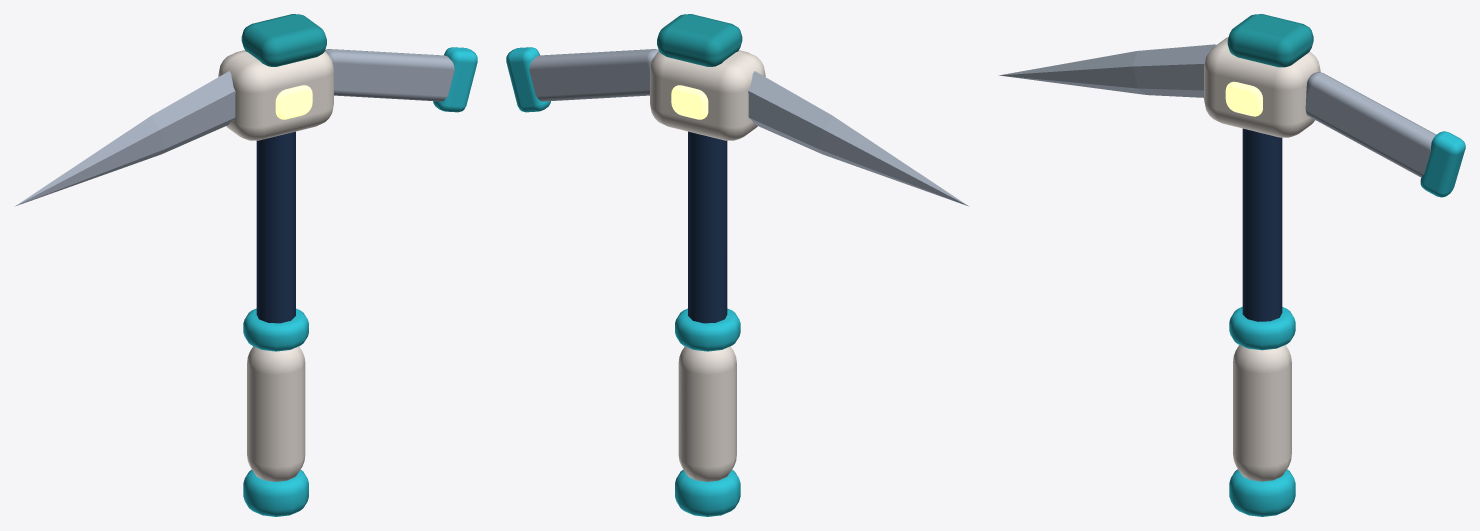
The model's file is pico.glb.
The picture shows the model from 3 angles, left to right: view 1: azimuth 30°, elevation 25°; view 2: azimuth 150°, elevation 25°; view 3: azimuth 330°, elevation 25°; orthographic projection.
Visible parts, largest first — view 1: Mango, Asta, Punta, Cabezal, Malla_cian, Cincel, Refuerzo, Luz2; view 2: Mango, Asta, Punta, Cabezal, Malla_cian, Cincel, Refuerzo, Luz; view 3: Asta, Mango, Cabezal, Malla_cian, Punta, Cincel, Refuerzo, Luz2.
Part boxes in pixels (x1=…): Mango: x1=247, y1=346, x2=305, y2=481; Asta: x1=256, y1=131, x2=295, y2=323; Punta: x1=15, y1=71, x2=235, y2=206; Cabezal: x1=218, y1=50, x2=333, y2=140; Malla_cian: x1=243, y1=47, x2=477, y2=516; Cincel: x1=325, y1=49, x2=454, y2=101; Refuerzo: x1=241, y1=14, x2=326, y2=66; Luz2: x1=275, y1=85, x2=312, y2=119; Mango: x1=678, y1=346, x2=736, y2=481; Asta: x1=688, y1=131, x2=727, y2=323; Punta: x1=748, y1=71, x2=968, y2=206; Cabezal: x1=650, y1=50, x2=765, y2=140; Malla_cian: x1=506, y1=47, x2=740, y2=516; Cincel: x1=529, y1=49, x2=658, y2=101; Refuerzo: x1=657, y1=14, x2=742, y2=66; Luz: x1=671, y1=85, x2=708, y2=119; Asta: x1=1242, y1=128, x2=1282, y2=321; Mango: x1=1233, y1=345, x2=1291, y2=481; Cabezal: x1=1204, y1=37, x2=1320, y2=137; Malla_cian: x1=1229, y1=131, x2=1465, y2=516; Punta: x1=999, y1=44, x2=1215, y2=97; Cincel: x1=1305, y1=72, x2=1436, y2=177; Refuerzo: x1=1227, y1=14, x2=1313, y2=67; Luz2: x1=1225, y1=81, x2=1262, y2=116.
Bounding box in the file's own units: 1.13 × 1.13 × 0.17.
